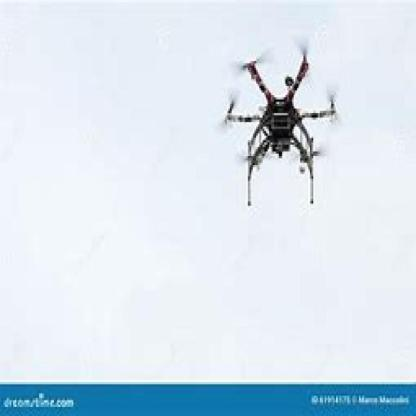drone: (215, 43, 352, 209)
